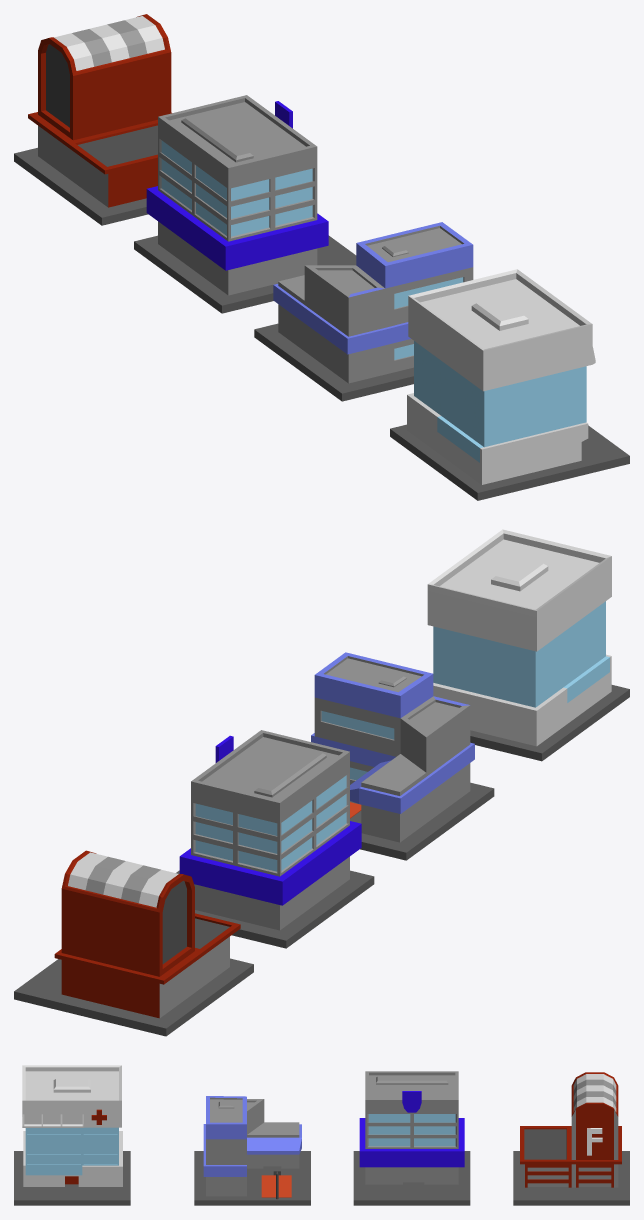
File: Property2.fbx
3 renders of one model, top to bottom at view 1: azimuth 30°, elevation 25°; view 2: azimuth 150°, elevation 25°; view 3: azimuth 270°, elevation 25°, orthographic. The views are drawn at different scales.
Parts seen in each view (by area): view 1: Hostpital, PoliceStation, FireStation, School; view 2: Hostpital, PoliceStation, FireStation, School; view 3: Hostpital, PoliceStation, FireStation, School.
Boxes of the visible parts, box(x1,y1,x2,y2) form: Hostpital: box(390, 269, 629, 500); PoliceStation: box(134, 95, 356, 313); FireStation: box(14, 14, 171, 225); School: box(254, 222, 473, 401); Hostpital: box(427, 529, 629, 761); PoliceStation: box(176, 730, 374, 948); FireStation: box(14, 850, 253, 1036); School: box(311, 652, 494, 860); Hostpital: box(14, 1065, 130, 1205); PoliceStation: box(353, 1071, 470, 1205); FireStation: box(513, 1072, 629, 1205); School: box(194, 1096, 310, 1205).
Bounding box in the file's own units: 100 × 93.68 × 528.
Materials: 1 (1 with a texture image).
